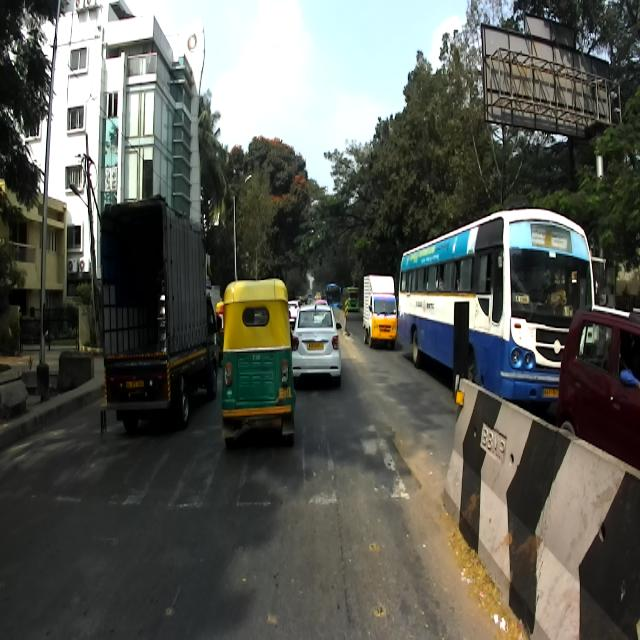auto ahead at: (217, 280, 292, 451)
car ahead at: (296, 306, 342, 384)
truck ahead at: (94, 194, 218, 436)
